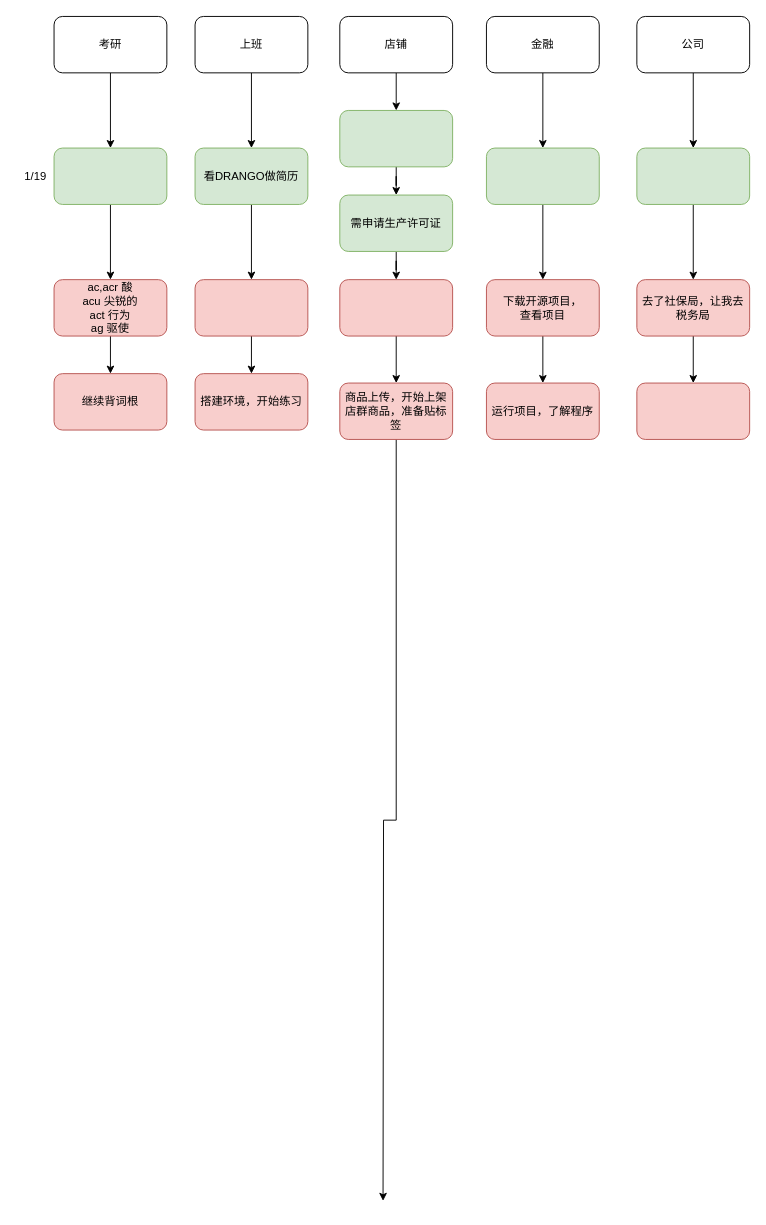
The diagram is 766 pixels wide and 1225 high, and some of its shapes have lost their labels. The centre of each missing label's shape, as x and y in pixels:
了解股票操作: point 542,175
去银行确认第三方代缴，浙里办: point 693,175
市区不能办生产许可证，大于50平米: point 396,307
淘宝店铺注册 添加: point 396,138
看了入门， MVVM， RESTFUL: point 251,307
等待审核，缴纳社保: point 693,410
背5个单词: point 110,175
